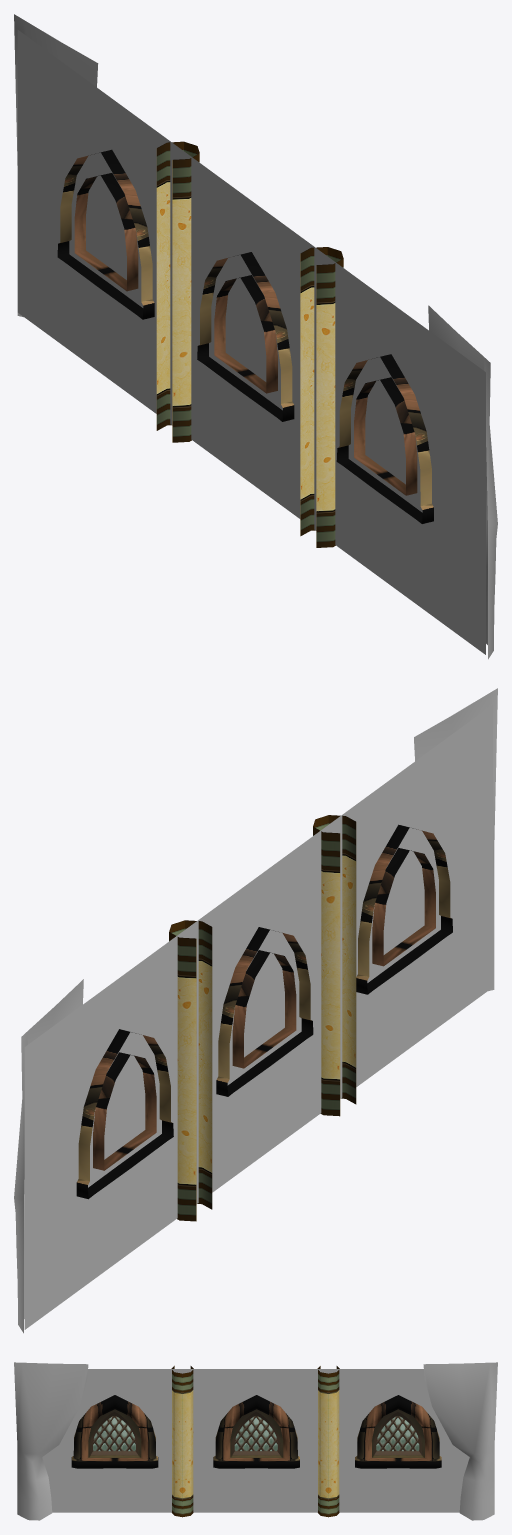
File: IceMaze_Wall06.fbx
The picture shows the model from 3 angles, top to bottom: view 1: azimuth 30°, elevation 25°; view 2: azimuth 150°, elevation 25°; view 3: azimuth 270°, elevation 25°; orthographic projection. The views are drawn at different scales.
Visible parts, largest first — view 1: WallMesh, LightL, LightR, WindowR, WindowCentre, WindowL, DrapeL, DrapeR; view 2: WallMesh, LightR, LightL, WindowCentre, WindowR, WindowL, DrapeR, DrapeL; view 3: WallMesh, DrapeR, DrapeL, WindowR, WindowCentre, WindowL, LightL, LightR.
Part boxes in pixels (<box>): WallMesh: <box>17,30,485,654</box>; LightL: <box>300,247,343,547</box>; LightR: <box>156,141,199,442</box>; WindowR: <box>57,149,154,319</box>; WindowCentre: <box>197,252,294,421</box>; WindowL: <box>336,354,433,523</box>; DrapeL: <box>428,305,497,659</box>; DrapeR: <box>14,14,98,317</box>; WallMesh: <box>24,704,492,1329</box>; LightR: <box>169,920,212,1221</box>; LightL: <box>313,815,356,1116</box>; WindowCentre: <box>216,927,313,1096</box>; WindowR: <box>76,1029,173,1199</box>; WindowL: <box>356,824,452,994</box>; DrapeR: <box>14,979,83,1333</box>; DrapeL: <box>414,688,497,991</box>; WallMesh: <box>42,1369,469,1512</box>; DrapeR: <box>423,1362,497,1520</box>; DrapeL: <box>14,1362,88,1520</box>; WindowR: <box>355,1395,441,1468</box>; WindowCentre: <box>213,1395,299,1468</box>; WindowL: <box>71,1395,158,1468</box>; LightL: <box>171,1365,193,1517</box>; LightR: <box>317,1366,339,1517</box>.
Size of the model in its own units: 0.7949 by 6.45 by 18.33.
